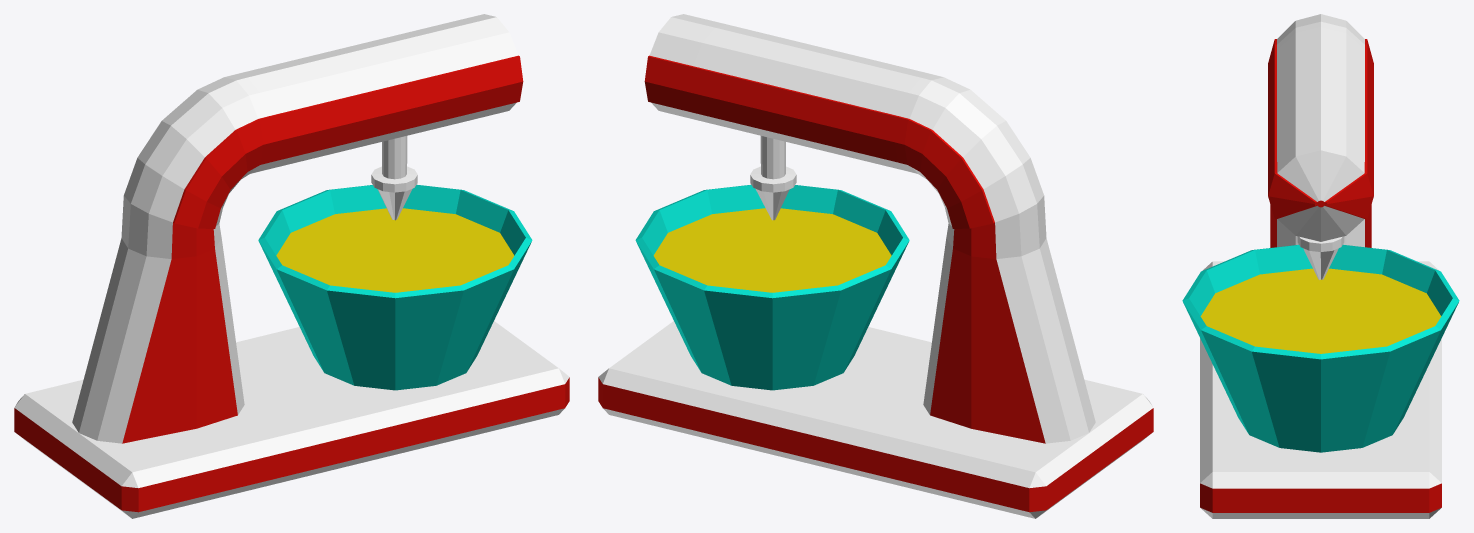
File: Mixer.fbx
3 views of the same model, side by side, from view 1: azimuth 30°, elevation 25°; view 2: azimuth 150°, elevation 25°; view 3: azimuth 270°, elevation 25° (orthographic).
Parts seen in each view (by area): view 1: Cylinder, Cube, Glass, Liquid, Cylinder.002; view 2: Cylinder, Cube, Glass, Liquid, Cylinder.002; view 3: Glass, Cube, Cylinder, Liquid, whisk, Cylinder.002.
Part boxes in pixels (box(x1,y1,x2,y2)): Cylinder: box(72, 14, 523, 443); Cube: box(14, 321, 569, 518); Glass: box(258, 184, 532, 390); Liquid: box(276, 208, 514, 292); Cylinder.002: box(371, 136, 417, 192); Cylinder: box(644, 14, 1095, 443); Cube: box(598, 321, 1153, 518); Glass: box(635, 184, 909, 390); Liquid: box(653, 208, 891, 292); Cylinder.002: box(750, 136, 796, 192); Glass: box(1182, 244, 1459, 452); Cube: box(1200, 261, 1441, 518); Cylinder: box(1268, 14, 1373, 247); Liquid: box(1200, 268, 1441, 353); whisk: box(1303, 248, 1338, 279); Cylinder.002: box(1297, 236, 1344, 251).
Size of the model in its own units: 432 by 333 by 229.
